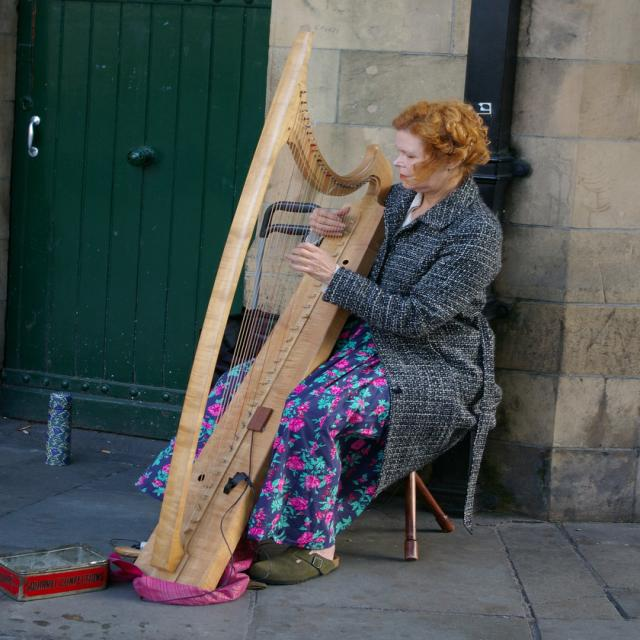harp: (135, 28, 400, 596)
